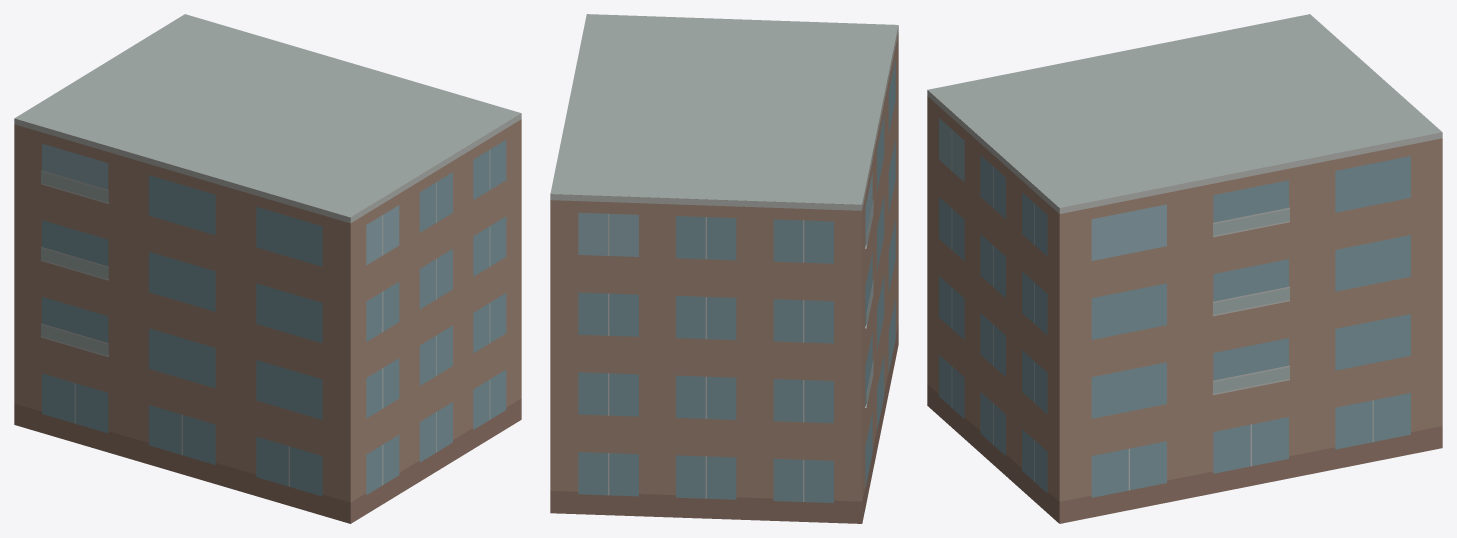
Rendered from survey-upis-32803939.glb.
The picture shows the model from 3 angles, left to right: view 1: azimuth 30°, elevation 25°; view 2: azimuth 150°, elevation 25°; view 3: azimuth 270°, elevation 25°; orthographic projection. The views are drawn at different scales.
Visible parts, largest first — view 1: survey-upis-32803939.tmp; view 2: survey-upis-32803939.tmp; view 3: survey-upis-32803939.tmp.
Part boxes in pixels (x1,y1,x2,y2): survey-upis-32803939.tmp: [14, 14, 521, 523]; survey-upis-32803939.tmp: [550, 14, 898, 523]; survey-upis-32803939.tmp: [927, 14, 1442, 523].
Bounding box in the file's own units: 16.88 × 12.8 × 18.94.
